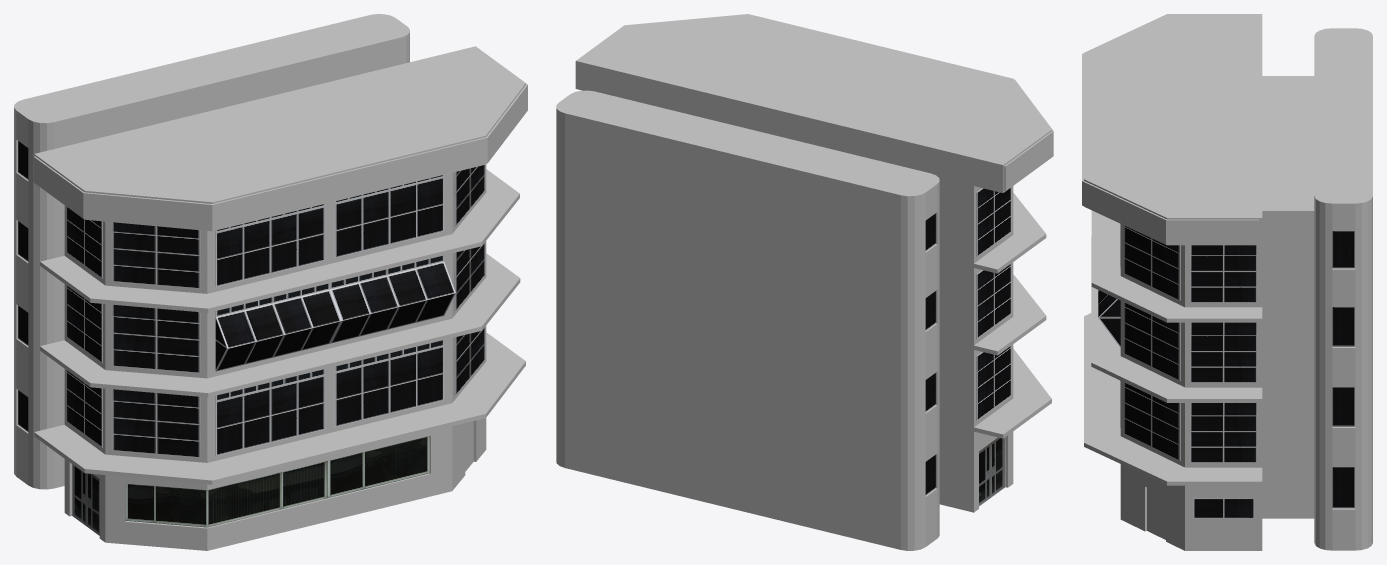
The model's file is Building-G-07.fbx.
The picture shows the model from 3 angles, left to right: view 1: azimuth 30°, elevation 25°; view 2: azimuth 150°, elevation 25°; view 3: azimuth 270°, elevation 25°; orthographic projection. The views are drawn at different scales.
Visible parts, largest first — view 1: Building-G-07; view 2: Building-G-07; view 3: Building-G-07.
Boxes of the visible parts, box(x1,y1,x2,y2) form: Building-G-07: box(14, 14, 527, 550); Building-G-07: box(556, 14, 1053, 550); Building-G-07: box(1082, 14, 1372, 550).
Size of the model in its own units: 2615 by 2059 by 1564.
